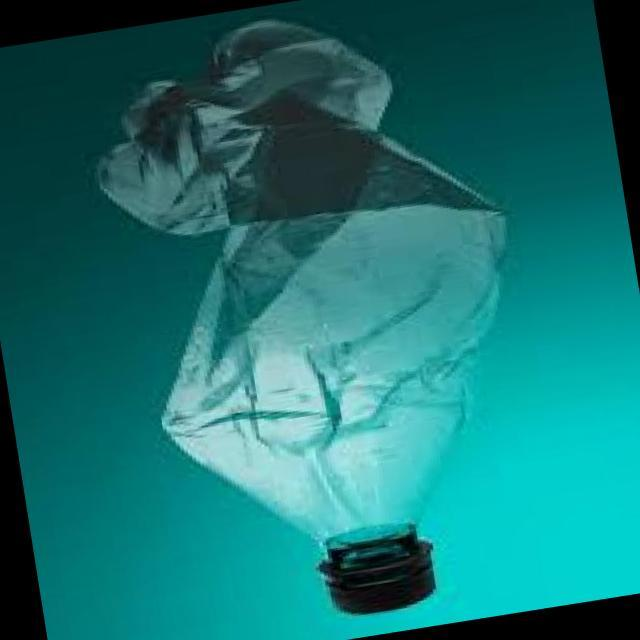defected: (56, 0, 573, 640)
